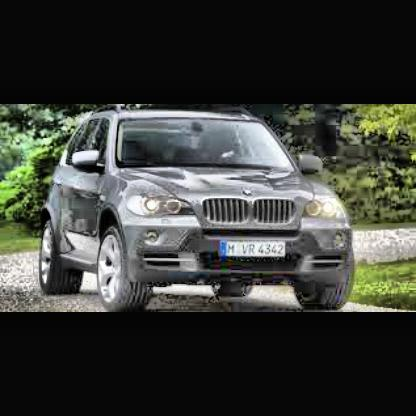BMW X5 SUV 2007: (39, 106, 359, 312)
